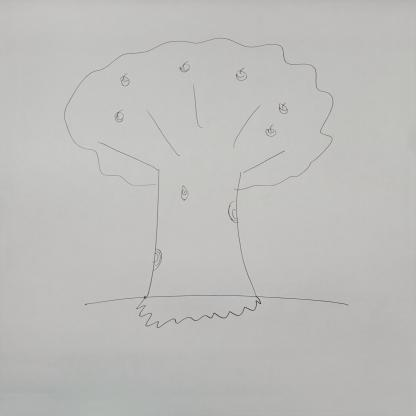apple: (234, 66, 249, 81), (118, 73, 133, 87), (178, 60, 193, 73), (113, 108, 126, 122), (265, 124, 277, 137), (277, 102, 290, 114)
branch_line: (98, 85, 285, 177)
crown_cloud: (64, 38, 334, 190)
knot: (226, 200, 240, 223), (153, 248, 163, 269), (179, 186, 190, 201)
root_under: (136, 284, 262, 328)
trunk_straight: (153, 196, 245, 270)
